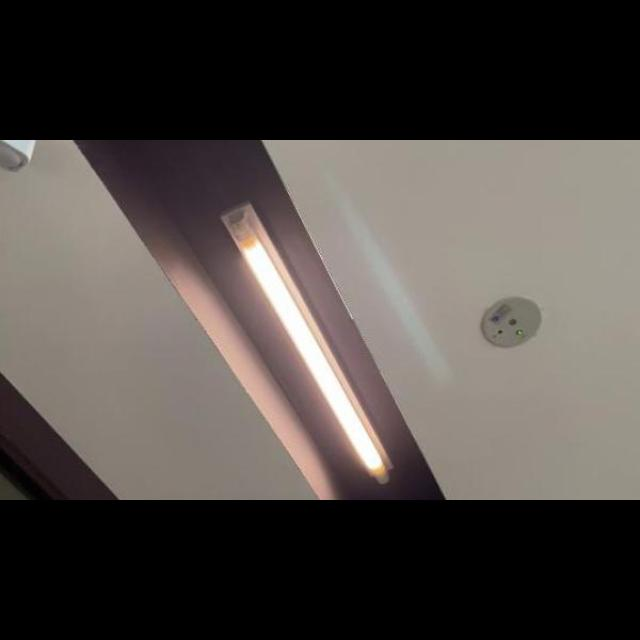Straight-Tube-Fluorescent-Lamp: (208, 192, 398, 490)
